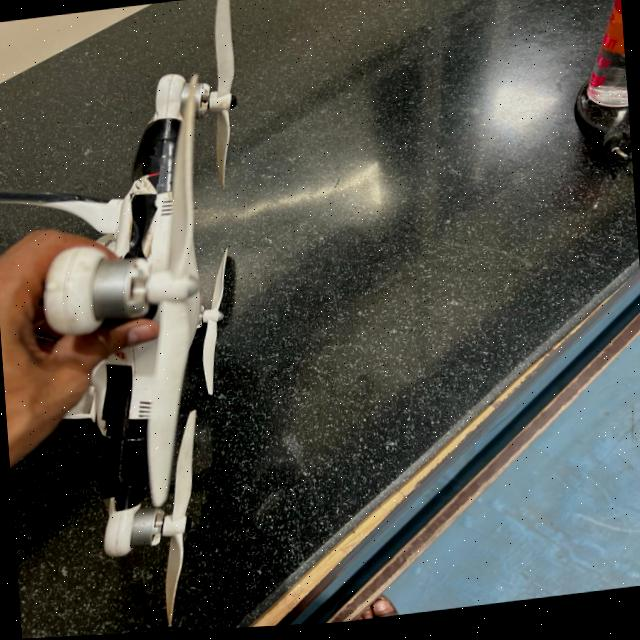drone: (0, 0, 339, 640)
